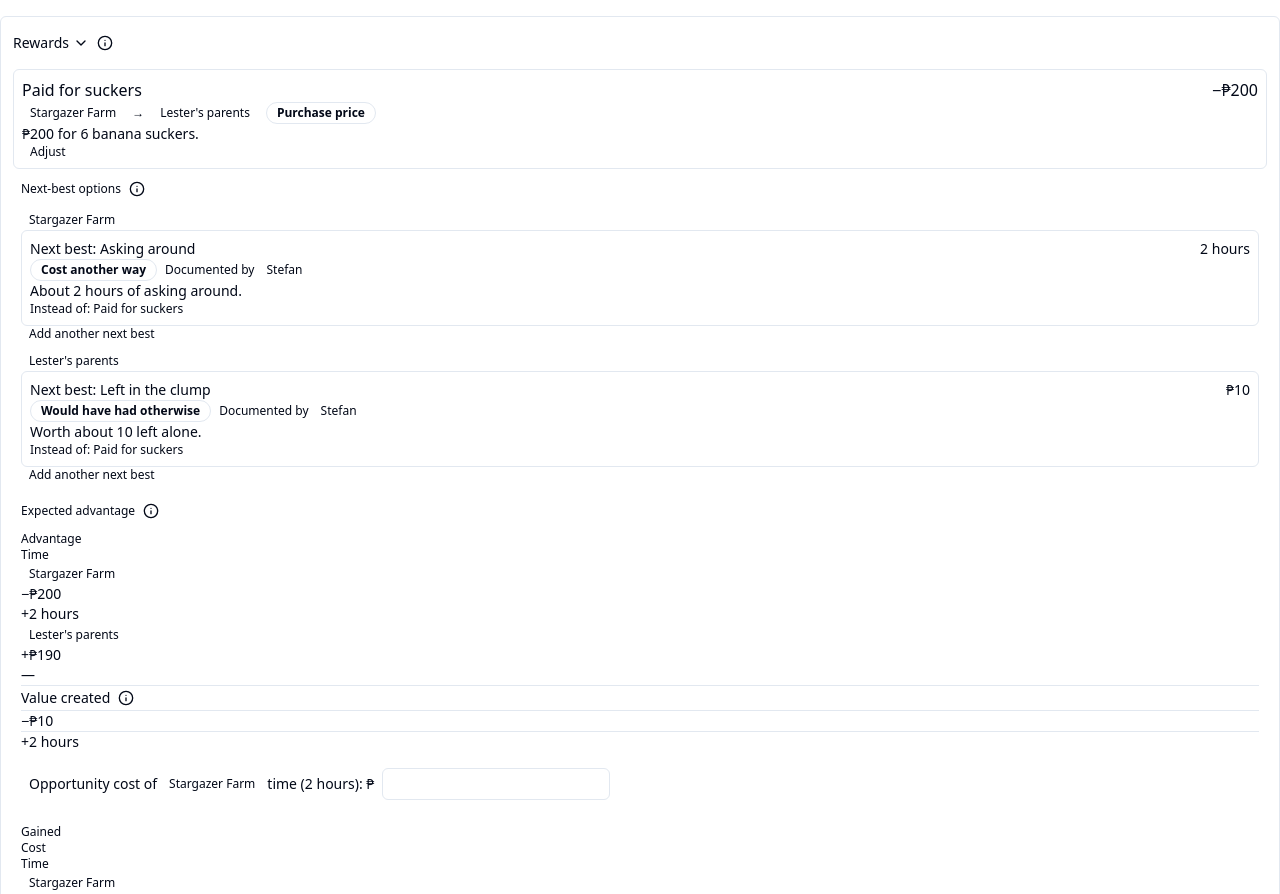
Scenario: RewardsSection › substitutes the opportunity cost the viewer enters for a party's time
Type "300" into the number field named "Opportunity cost of Stargazer Farm time in pesos". click: [496, 784]
box: left=382, top=768, right=610, bottom=800
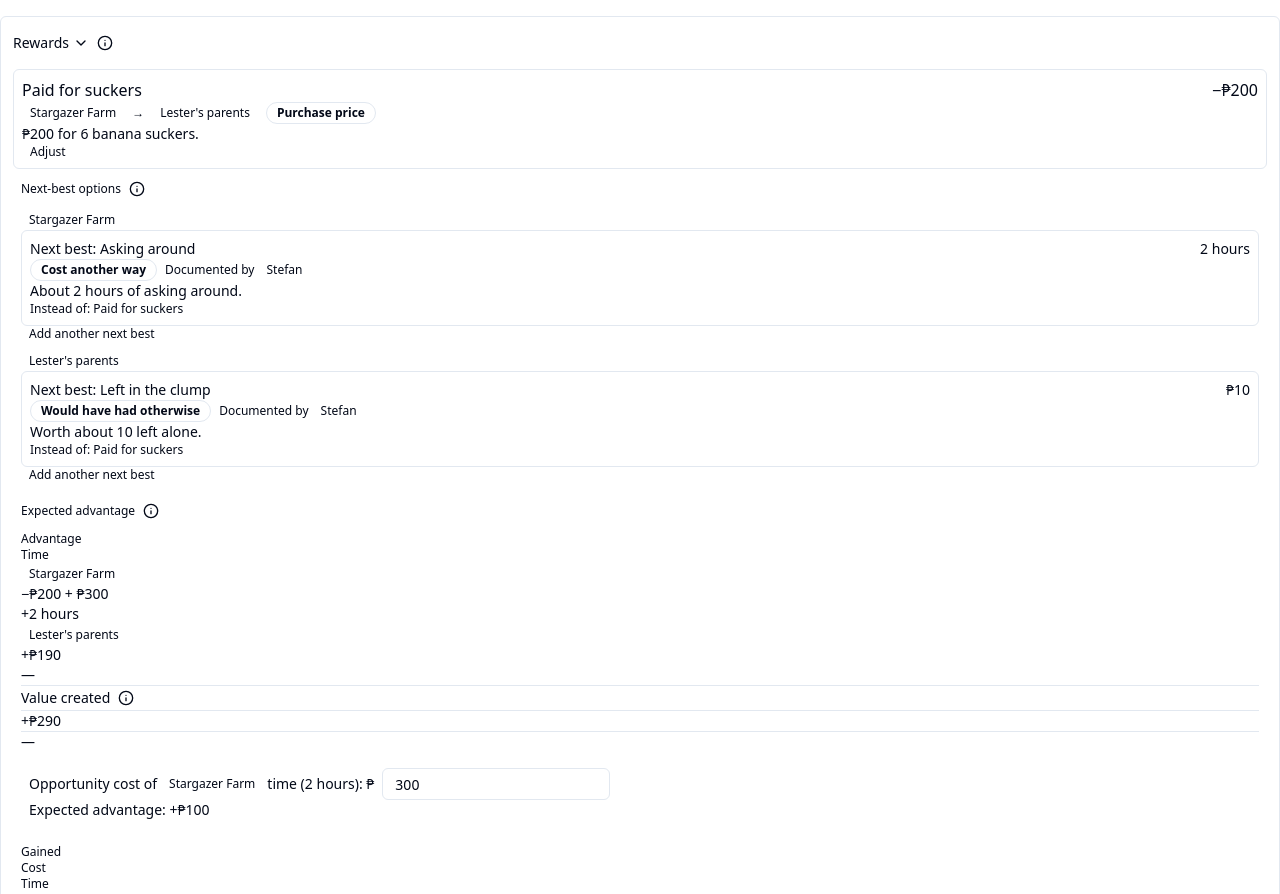
Expected: the text "+₱100" is shown, left=170, top=800, right=210, bottom=819
